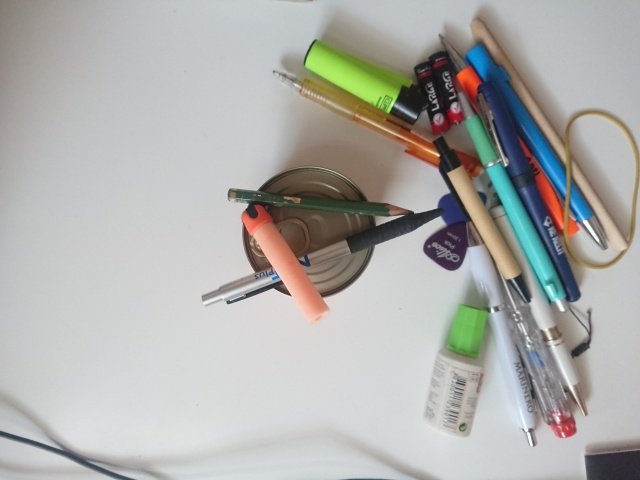Gavrilovic Pork Liver Pate 100g: (238, 162, 379, 301)
